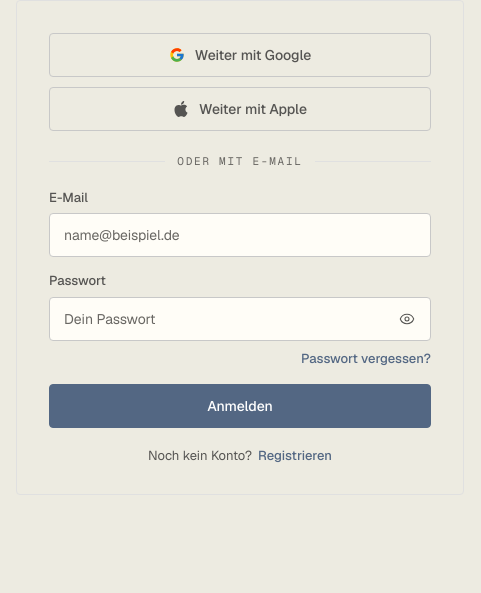
Test case: LoginForm › error handling › shows a server error message for unexpected server failures
Type "t@t.de" into the field labelled "E-Mail".
click(240, 235); type("t@t.de")  # box [49,213,431,257]
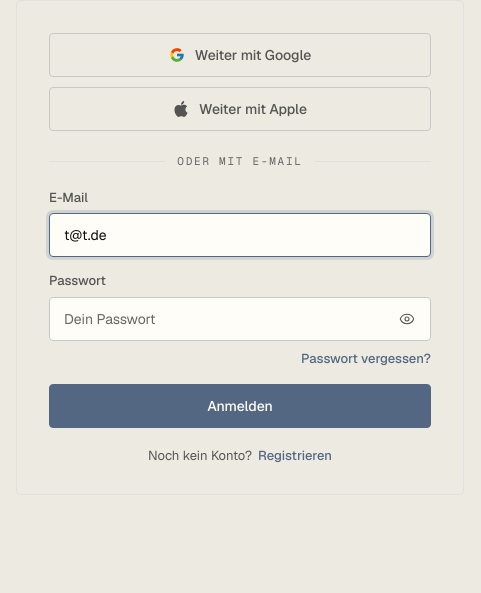
Type "pass" into the password field labelled "Passwort".
click(240, 318); type("pass")  # box [49,296,431,340]
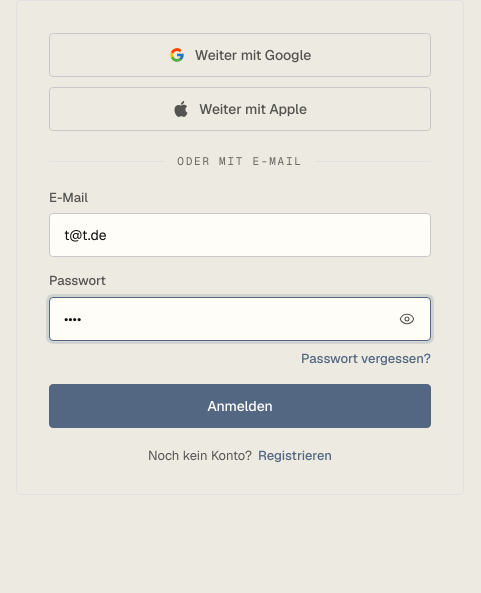
Click the button "Anmelden".
click(240, 406)  # box [49,384,431,428]
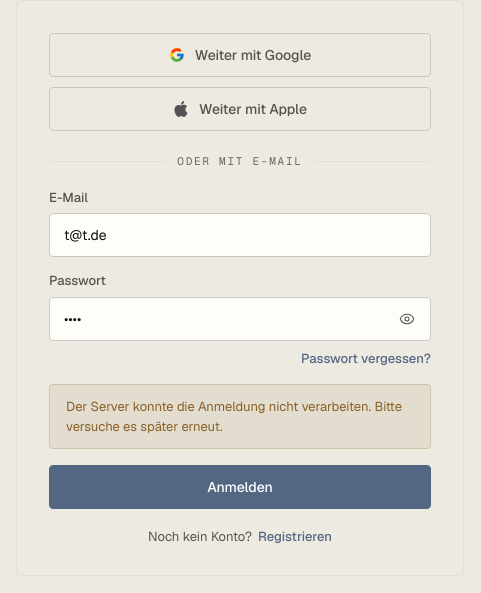
Now the message shows "Der Server konnte die Anmeldung nicht verarbeiten", box [66,398,402,434]
